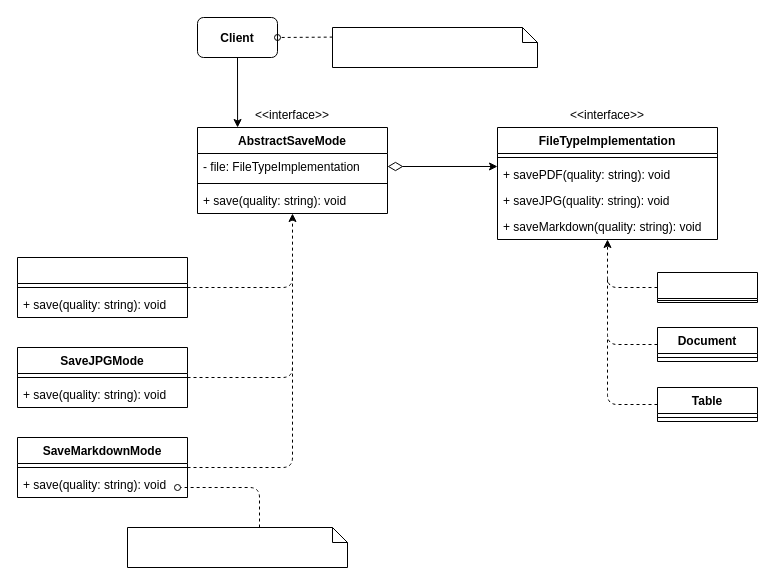
Some shapes in this 775 by 585 pixel diagram are drawn without their labels. The box of each missing label's shape, as (x1, y1, x2, y2) in pixels:
abstractSaveMode.save("good"): (332, 26, 538, 68)
SavePDFMode: (16, 256, 188, 318)
Slide: (656, 272, 758, 302)
this.file.saveMarkdown(quality): (126, 526, 348, 568)
